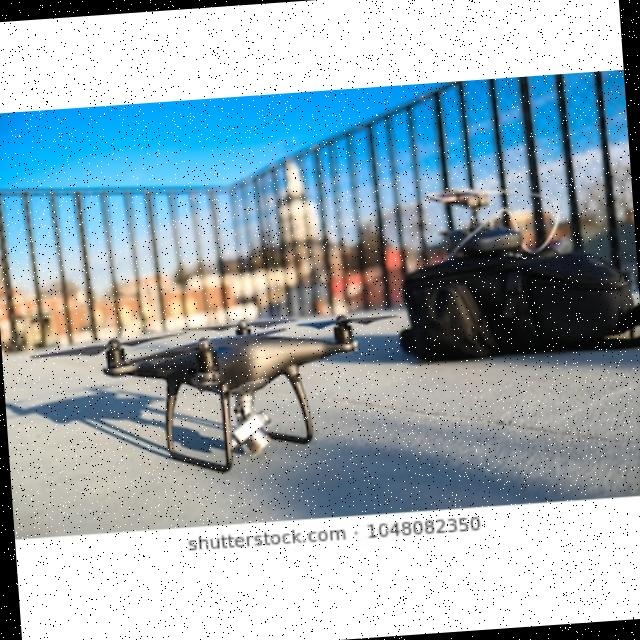Drones: (58, 310, 388, 474)
